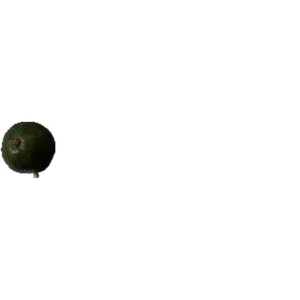abacate: (1, 119, 55, 175)
